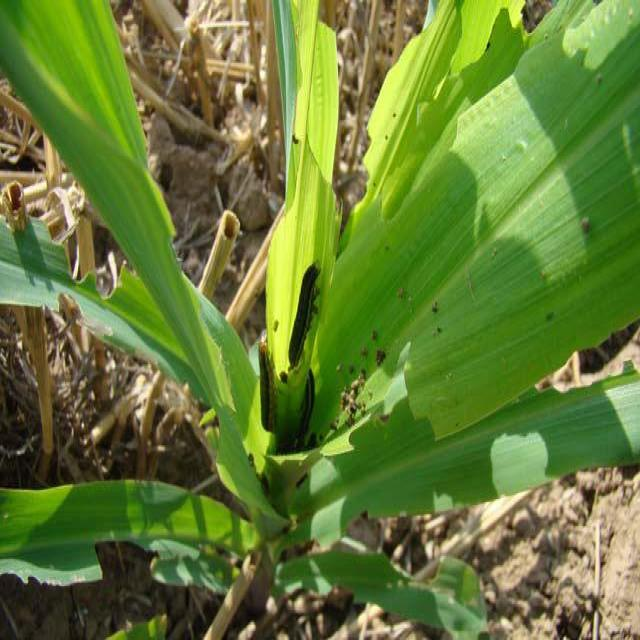pest: (289, 257, 321, 377), (297, 371, 335, 444), (250, 340, 279, 432)
